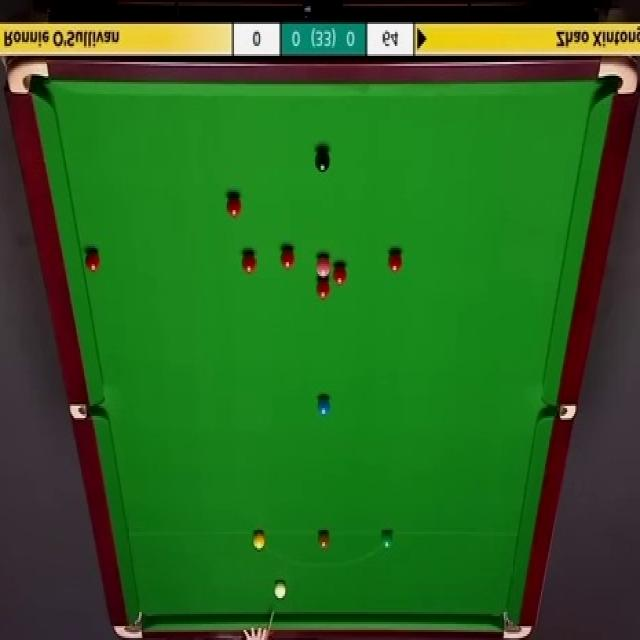pocket: (598, 58, 638, 97), (6, 60, 49, 95), (112, 608, 145, 640), (501, 610, 530, 638), (68, 403, 107, 420), (541, 403, 575, 420)
